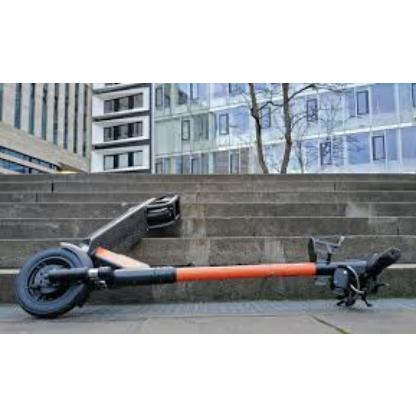bike: (15, 193, 404, 320), (307, 234, 402, 308)
